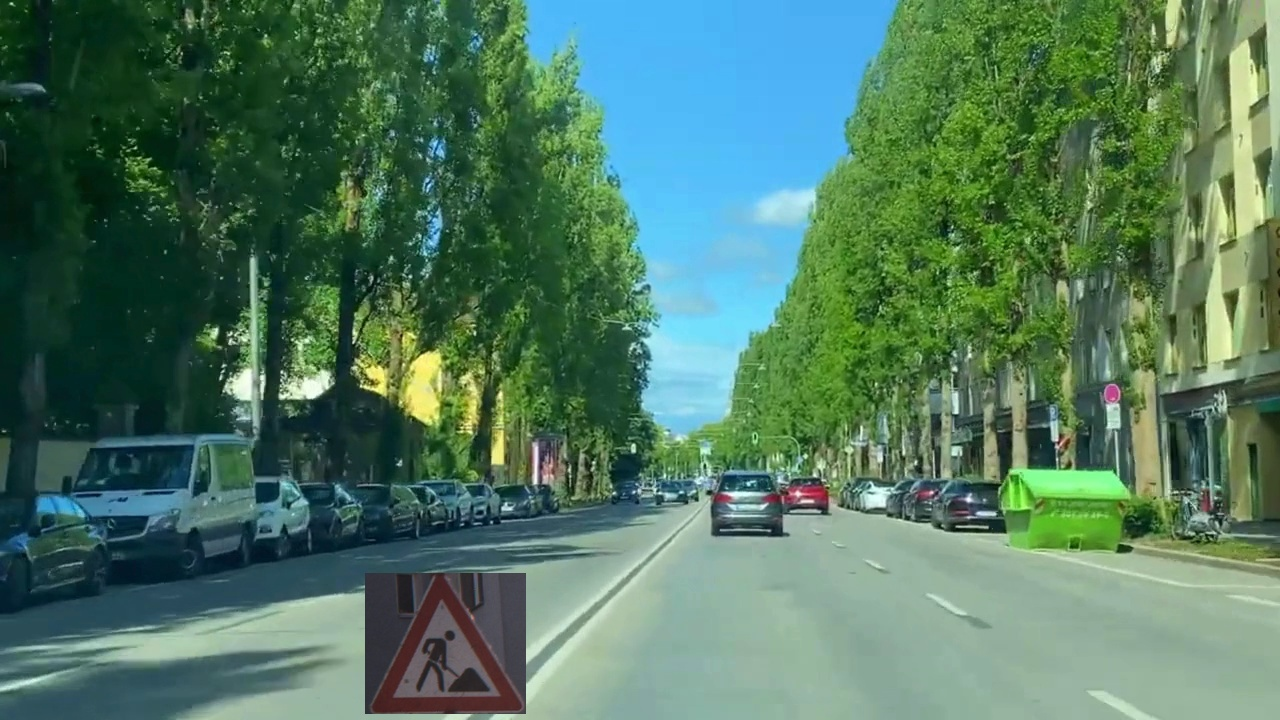Road work: (365, 573, 526, 714)
